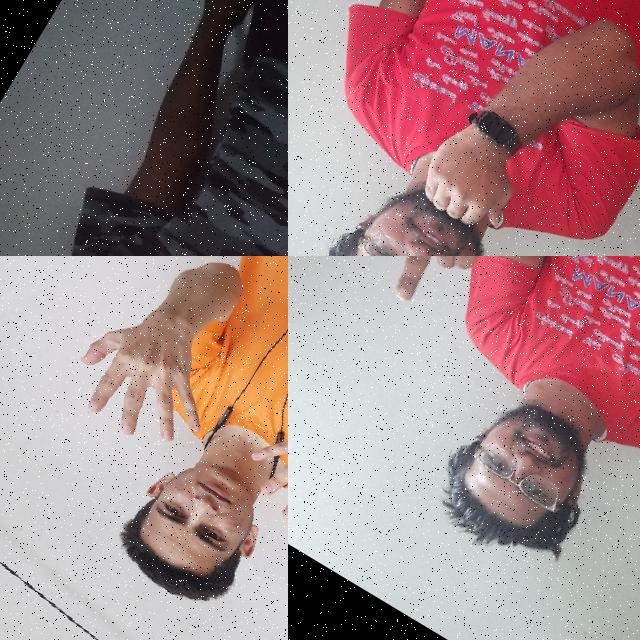Chin Flick: (288, 86, 568, 256)
Middle Finger: (349, 256, 521, 337)
Moutza: (45, 269, 254, 476), (221, 361, 288, 579)
